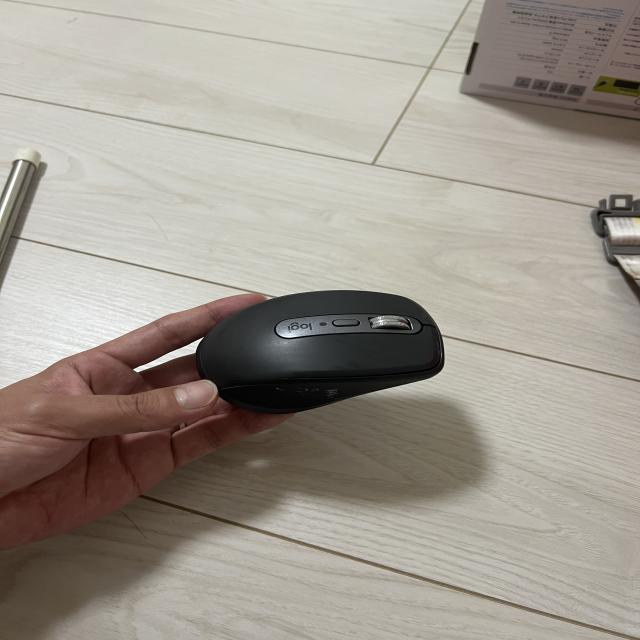mouse: (203, 295, 458, 401)
